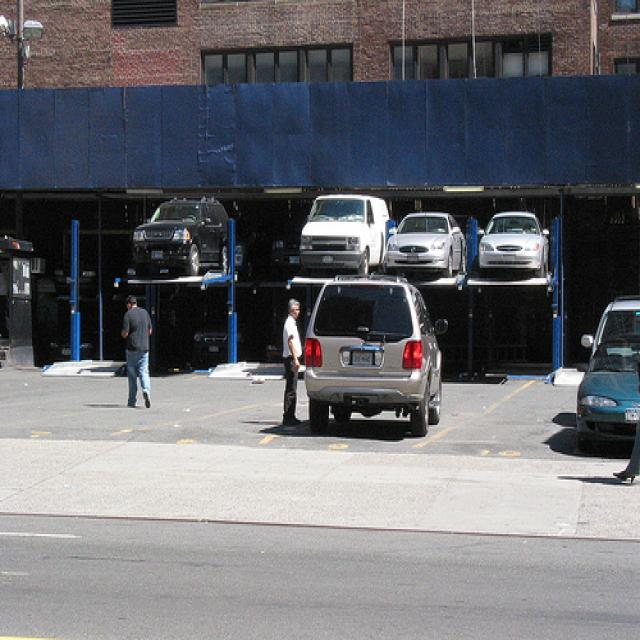Car: (304, 274, 443, 430), (134, 196, 242, 274), (589, 310, 640, 456), (300, 196, 393, 268), (388, 208, 471, 271), (481, 208, 556, 273)
